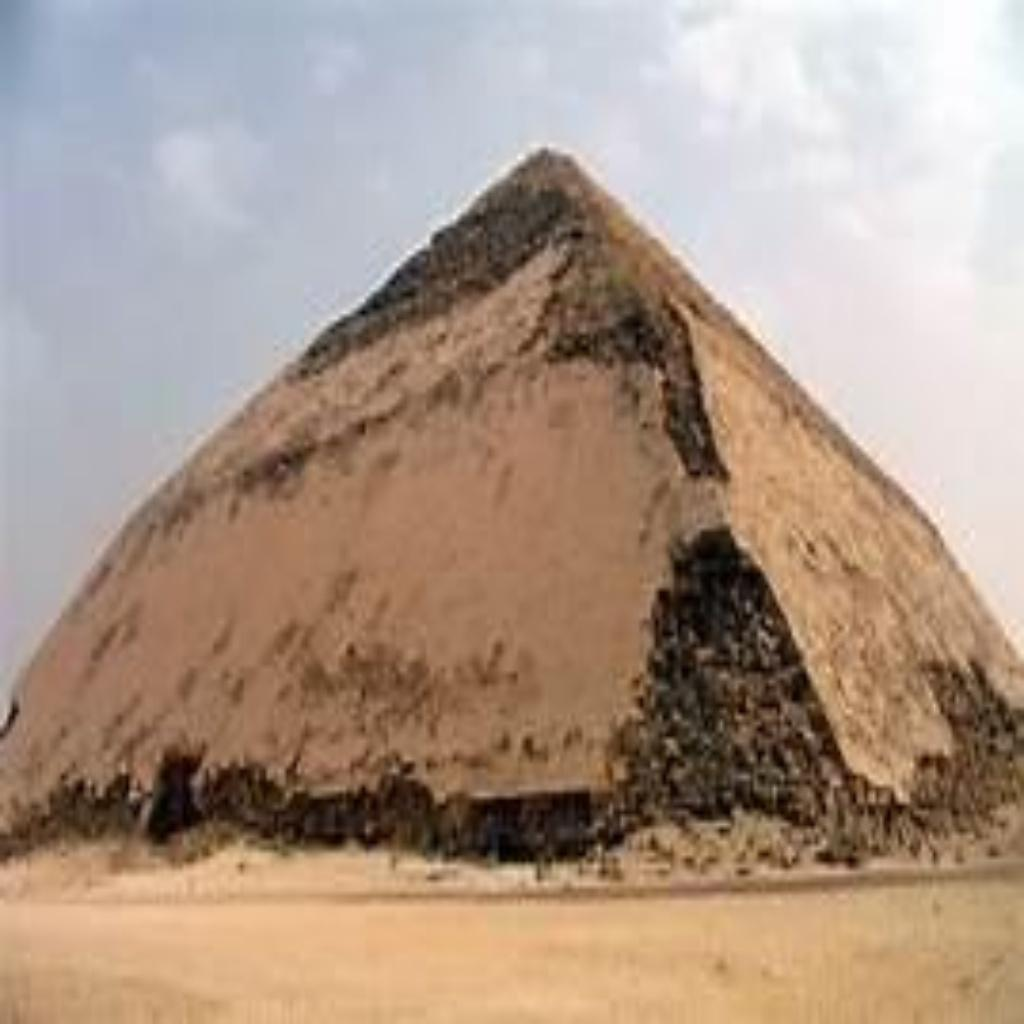Bent Pyramid of King Sneferu: (4, 137, 1016, 863)
